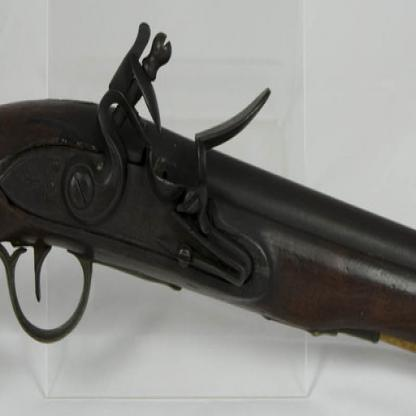gun: (0, 22, 415, 415)
